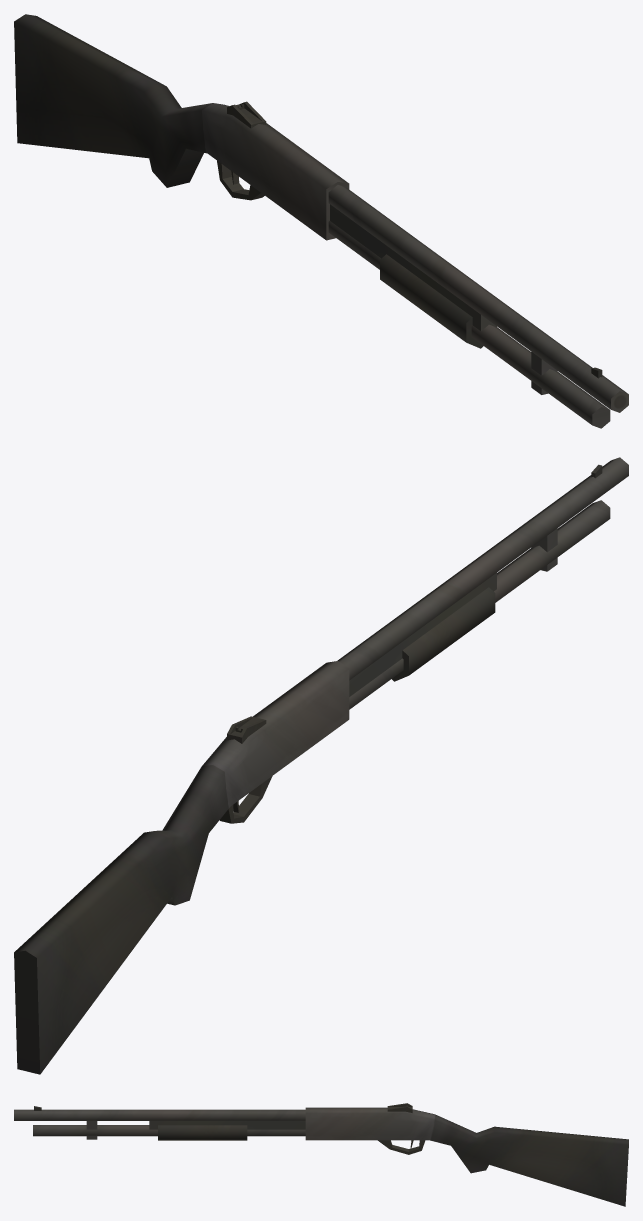
The model's file is Shotgun.fbx.
3 views of the same model, one above another, from view 1: azimuth 30°, elevation 25°; view 2: azimuth 150°, elevation 25°; view 3: azimuth 270°, elevation 25° (orthographic). The views are drawn at different scales.
Visible parts, largest first — view 1: Body, Pump; view 2: Body, Pump; view 3: Body, Pump.
Boxes of the visible parts, x1,y1,x2,y2 form: Body: [14, 14, 628, 428]; Pump: [380, 254, 483, 348]; Body: [14, 457, 628, 1074]; Pump: [392, 587, 495, 681]; Body: [14, 1103, 628, 1206]; Pump: [158, 1125, 247, 1140].
Size of the model in its own units: 19 by 119 by 671.
1 material, 1 textured.
